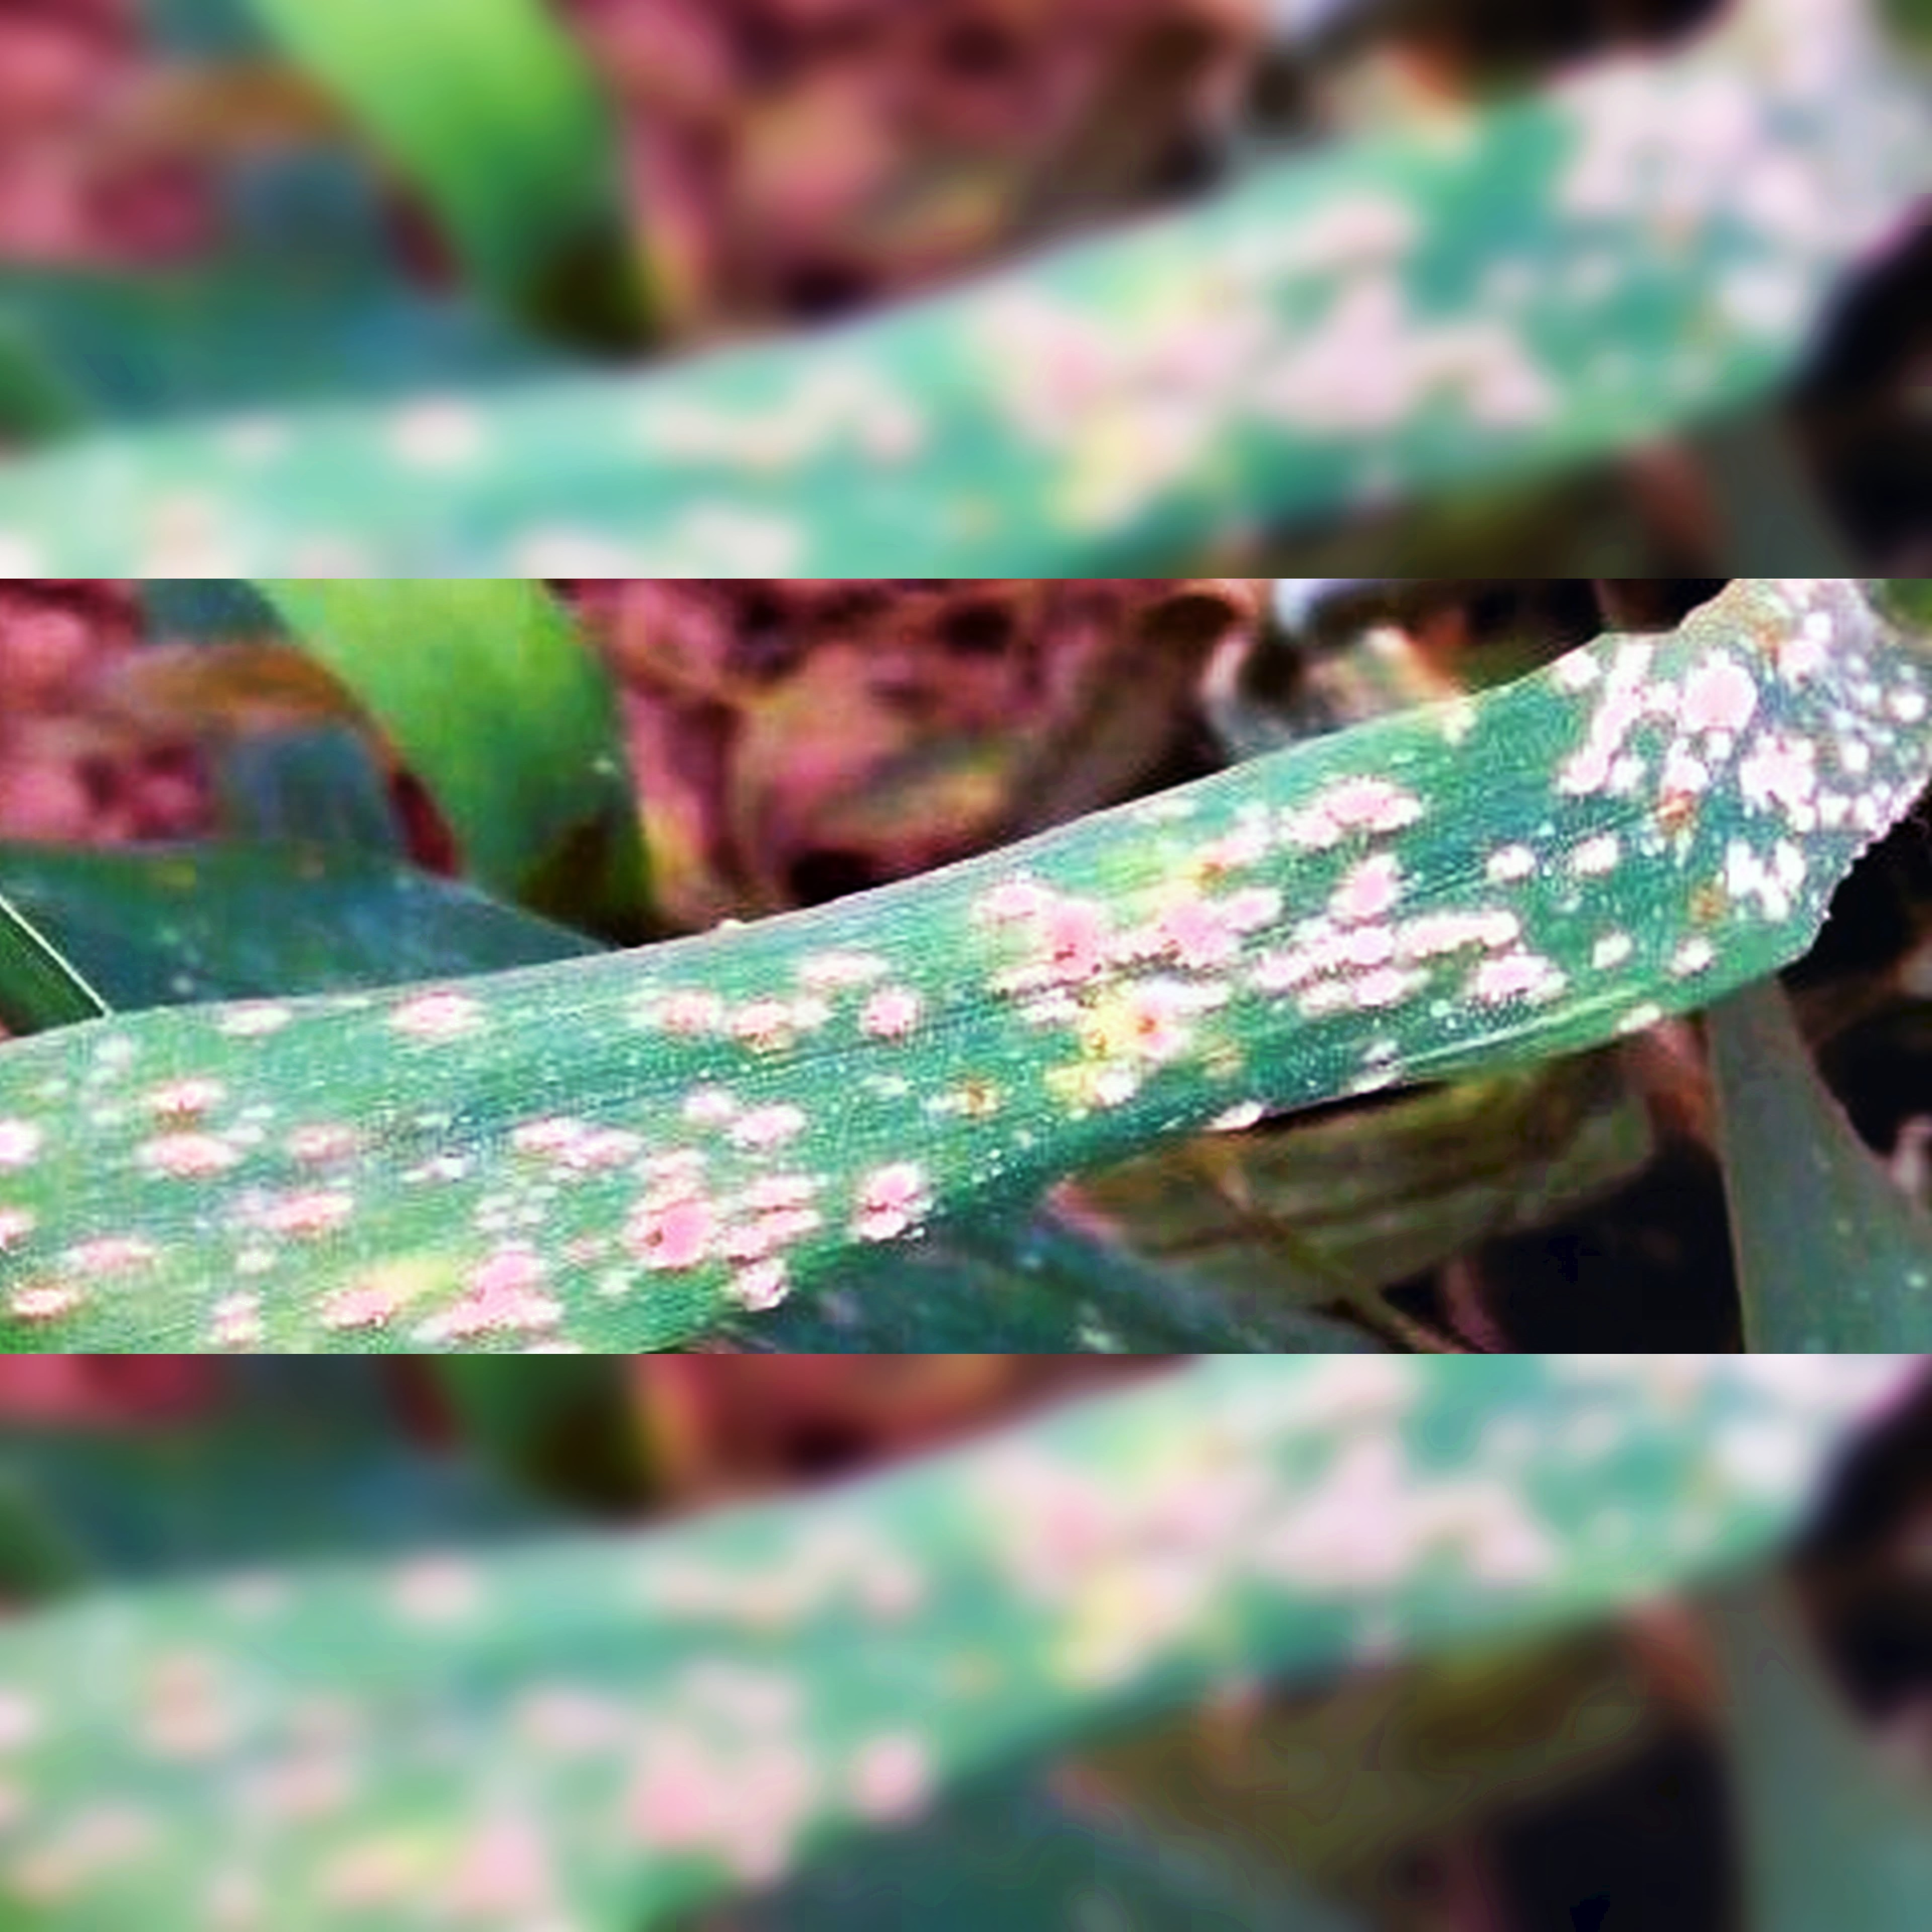Powdery Mildew: (177, 607, 1831, 1322)
